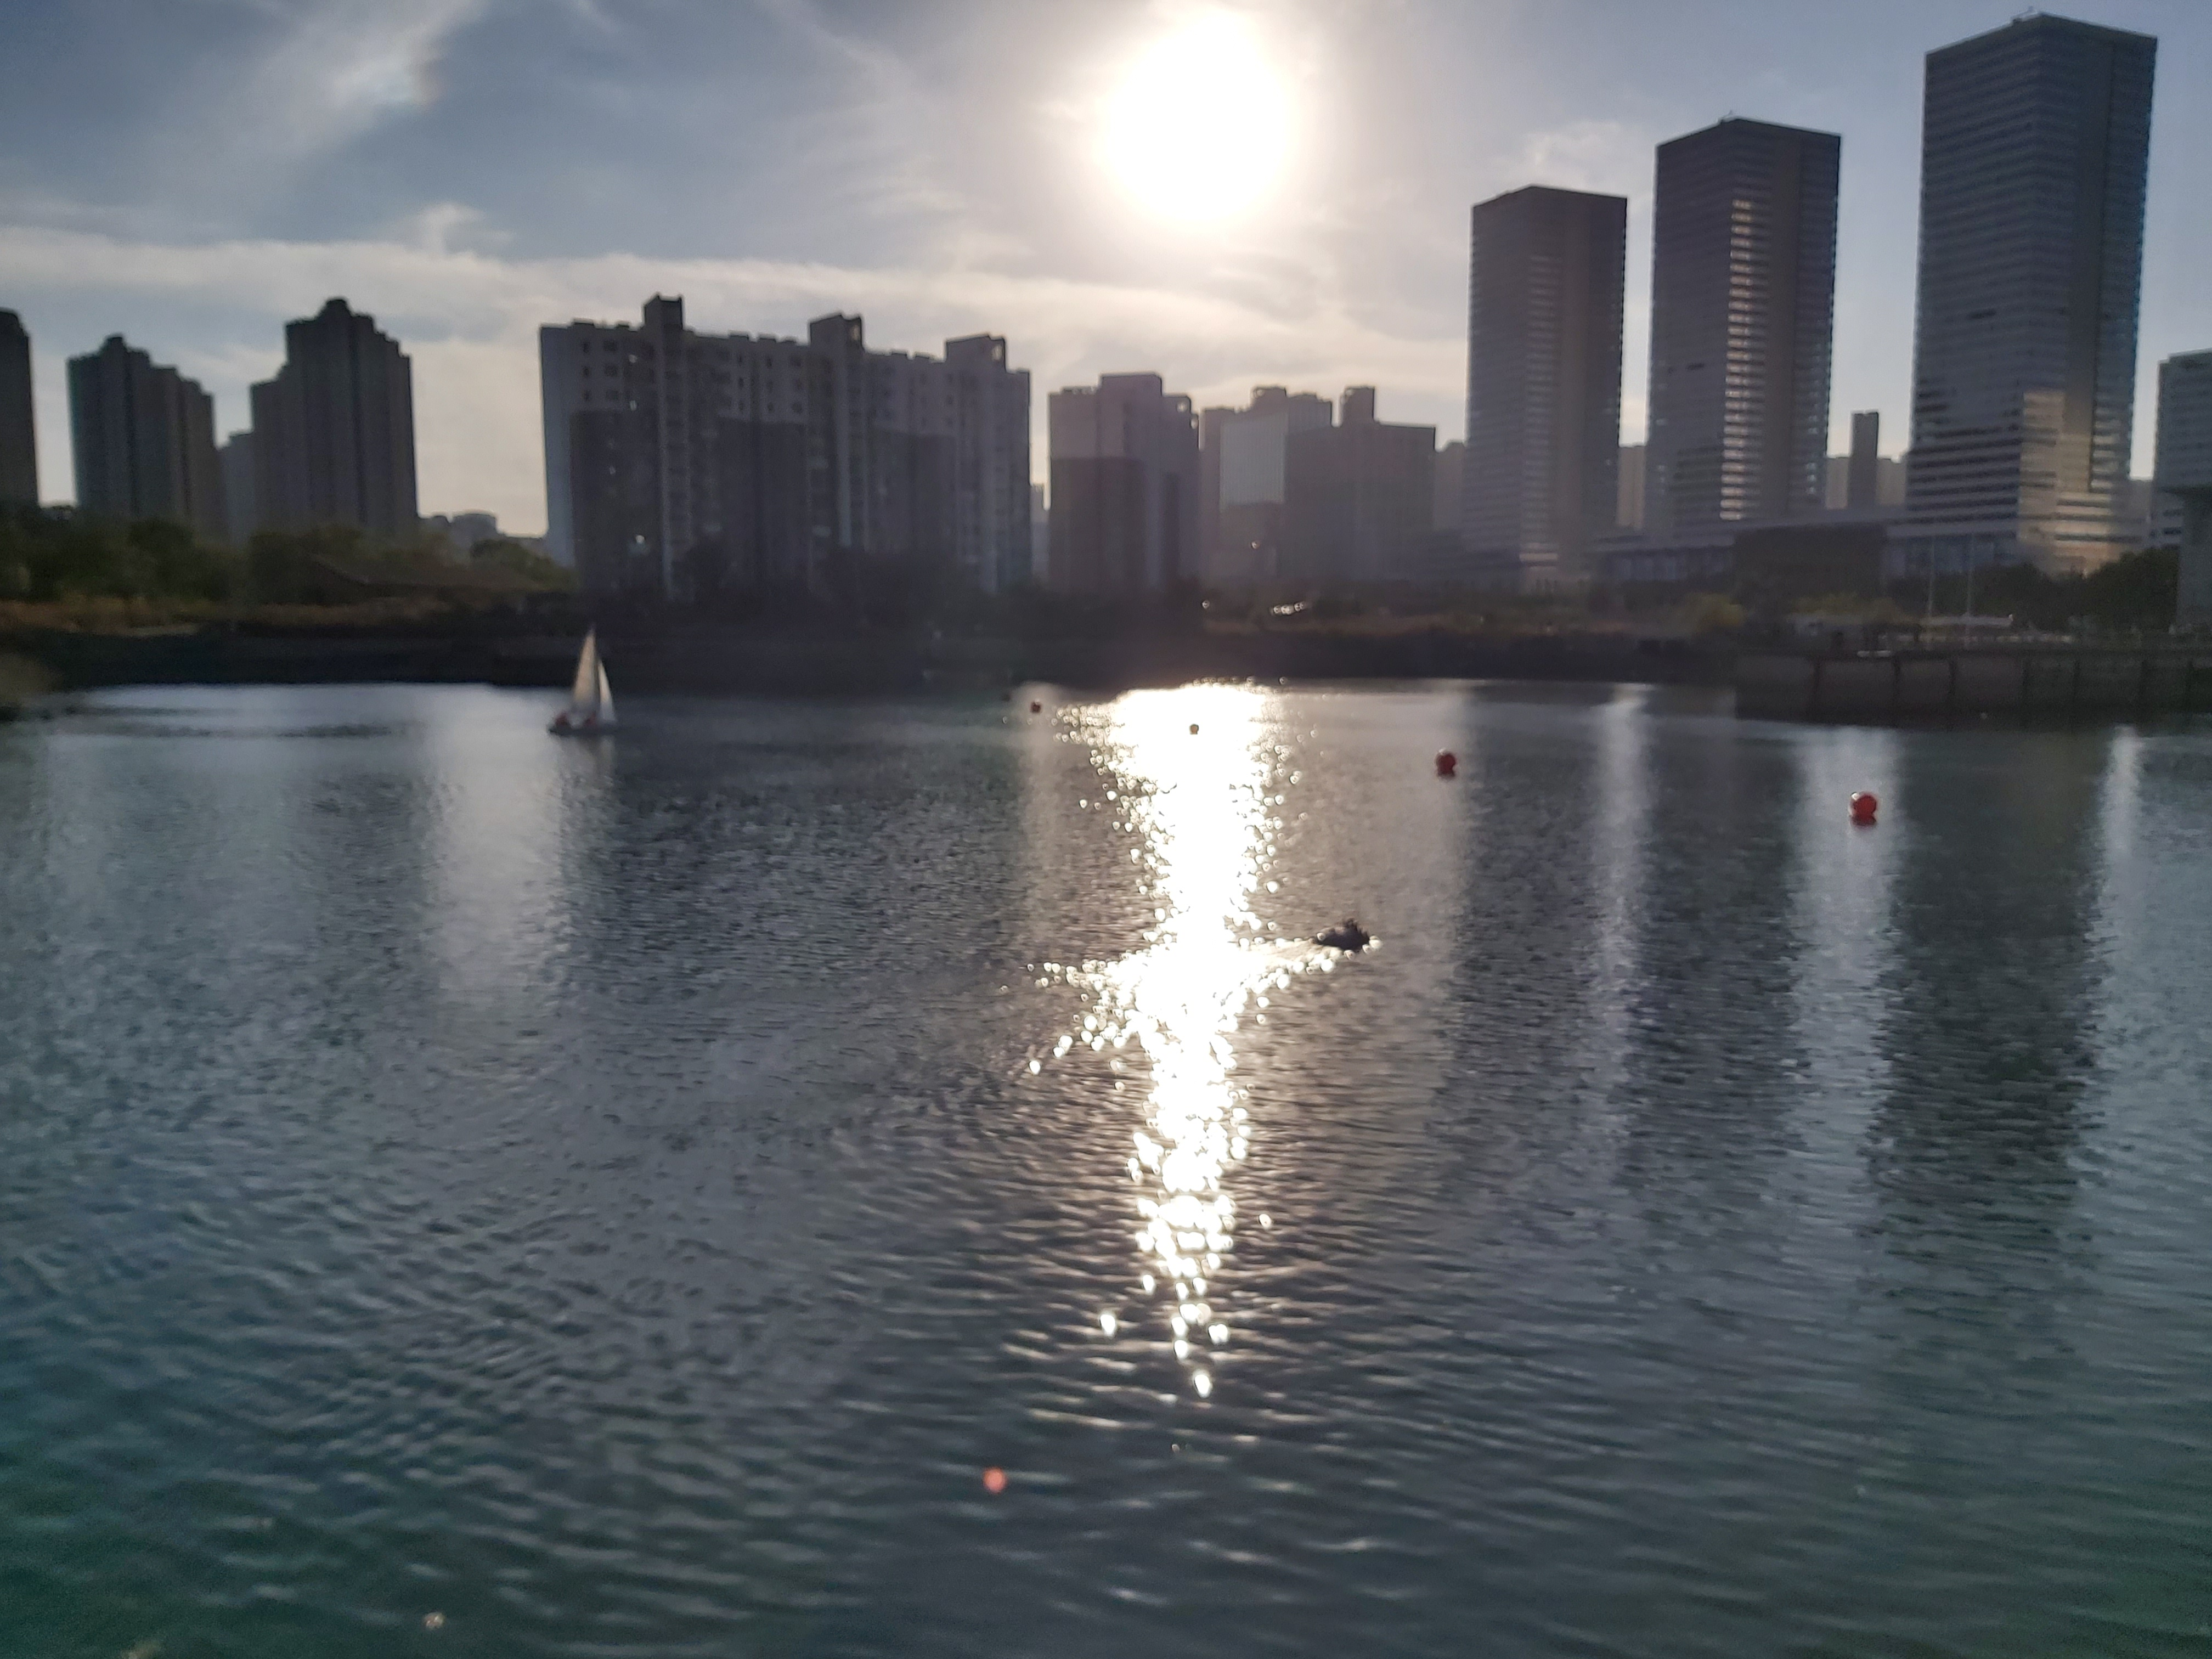ball: (1851, 788, 1885, 821), (1432, 746, 1458, 775)
boat: (538, 631, 636, 748), (1310, 910, 1378, 955)
